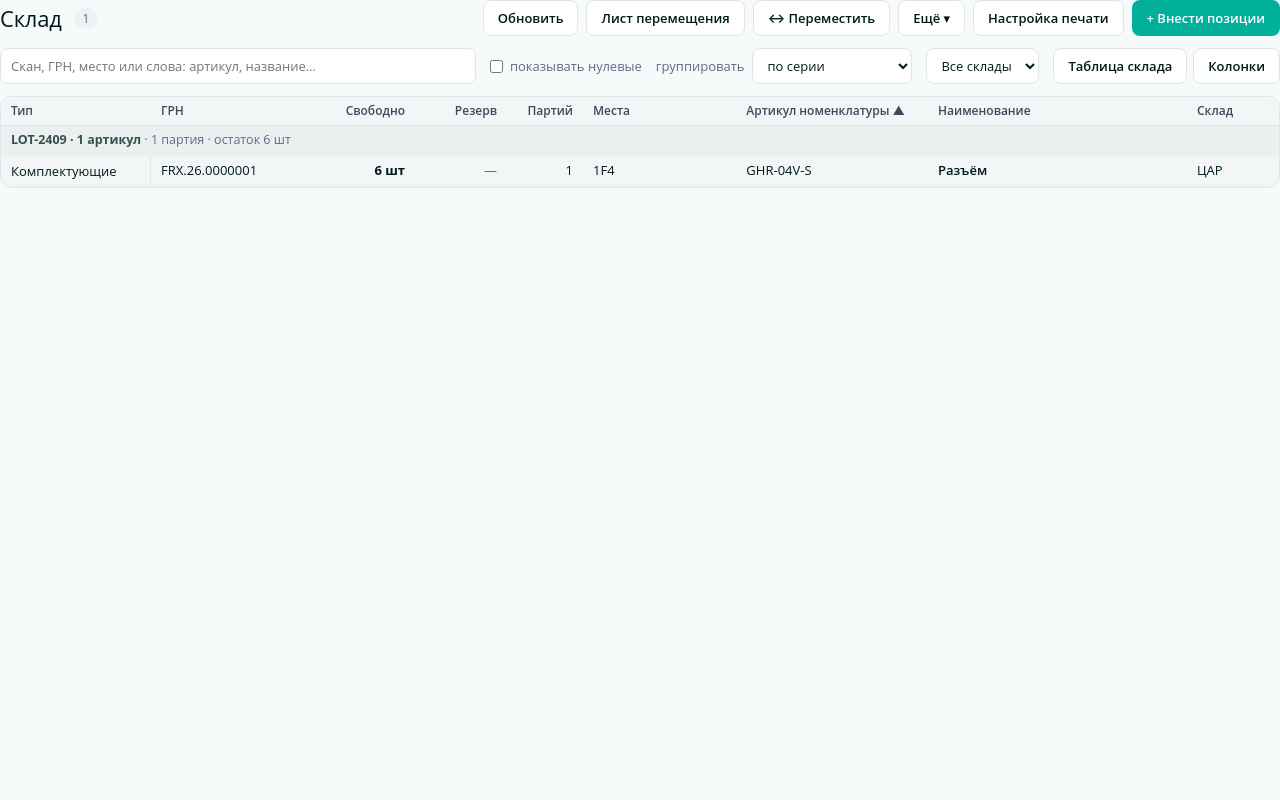
lists where the lot was issued to and caps the return by the chosen destination
What coordinates should you click on to do the following:
click the button with aria-label "Показать партии (1)"
I would click on:
 (1058, 171)
Its box is [938,162,1177,180].
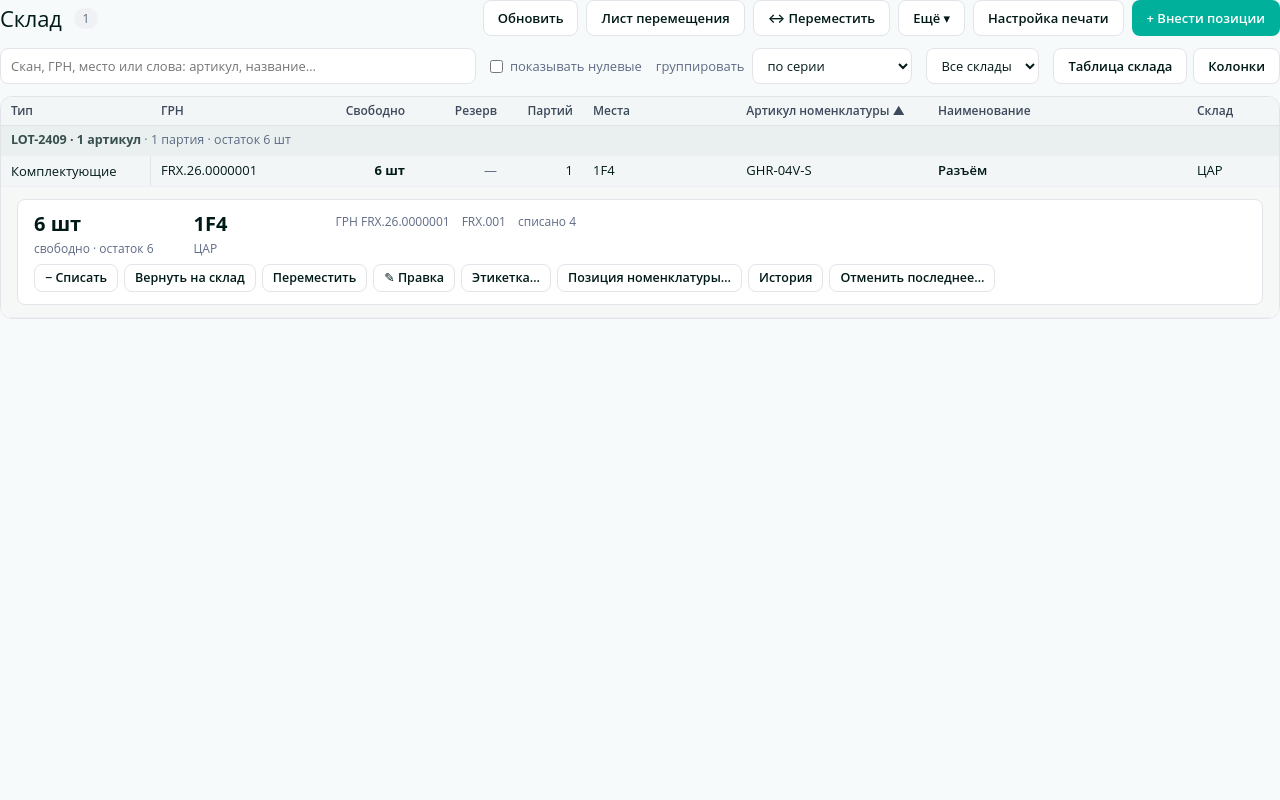
What coordinates should you click on to do the following:
click the button "Вернуть на склад"
I would click on:
 (190, 278)
Its box is [124,264,256,292].
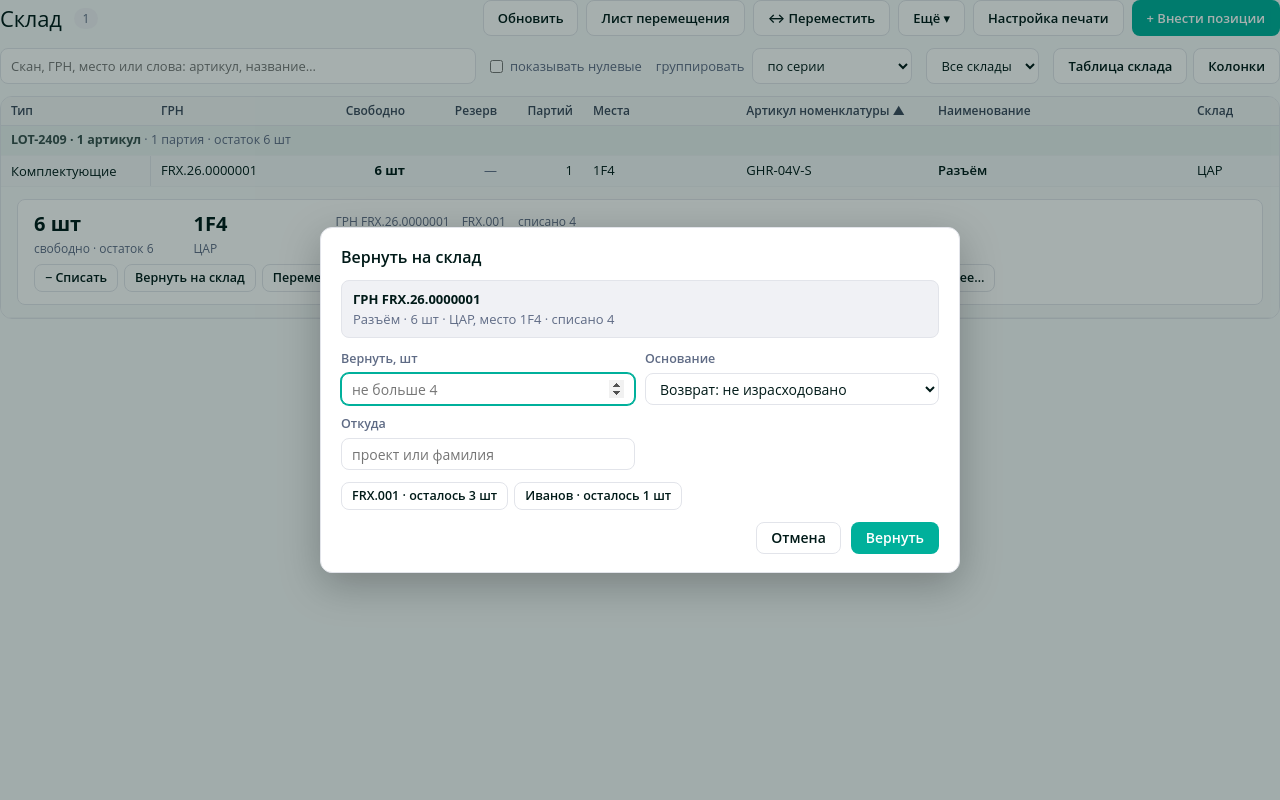
Result: the buttons read "FRX.001 · осталось 3 шт", "Иванов · осталось 1 шт", in this order
Result: the dropdown named "Откуда возврат" is empty at [341,438,635,470]
What coordinates should you click on to do the following:
click the button "Иванов · осталось 1 шт"
I would click on:
 (598, 496)
Its box is [514,482,682,510].
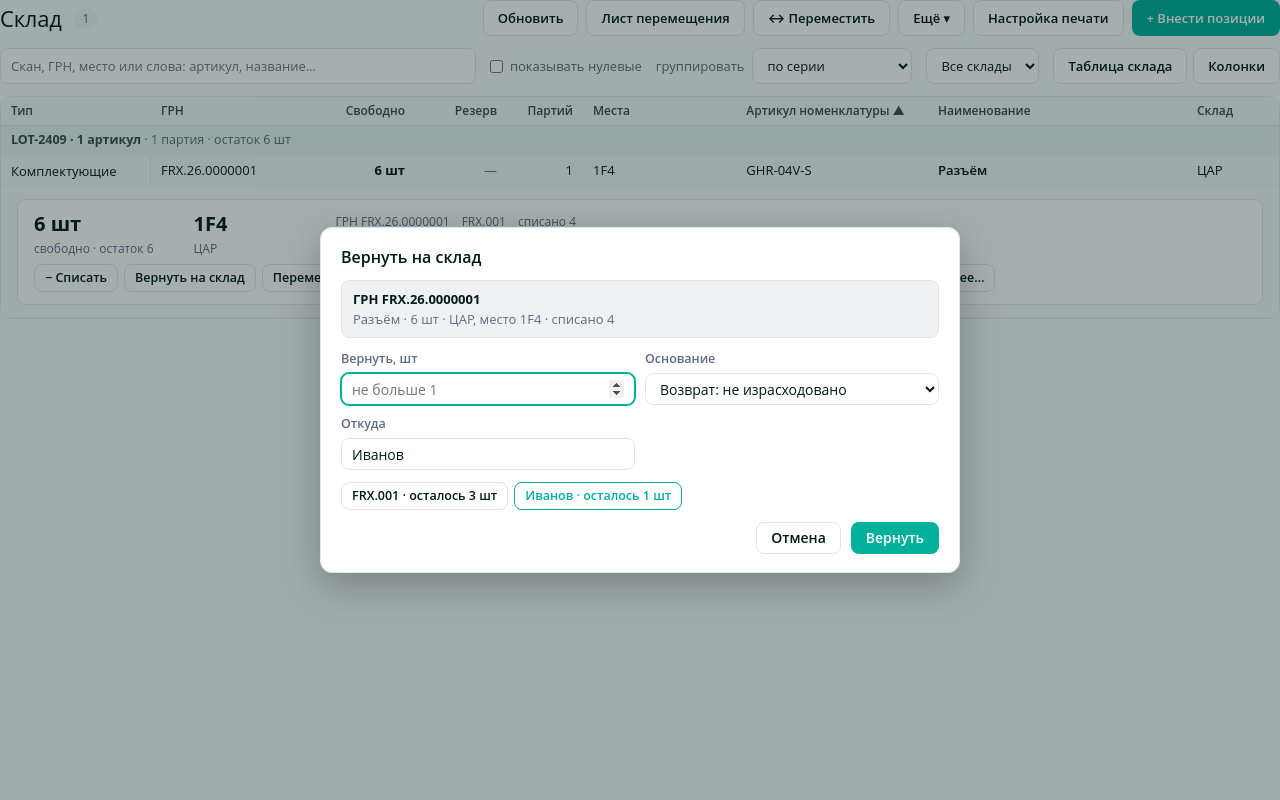
Result: the dropdown named "Откуда возврат" holds "Иванов" at [341,438,635,470]
